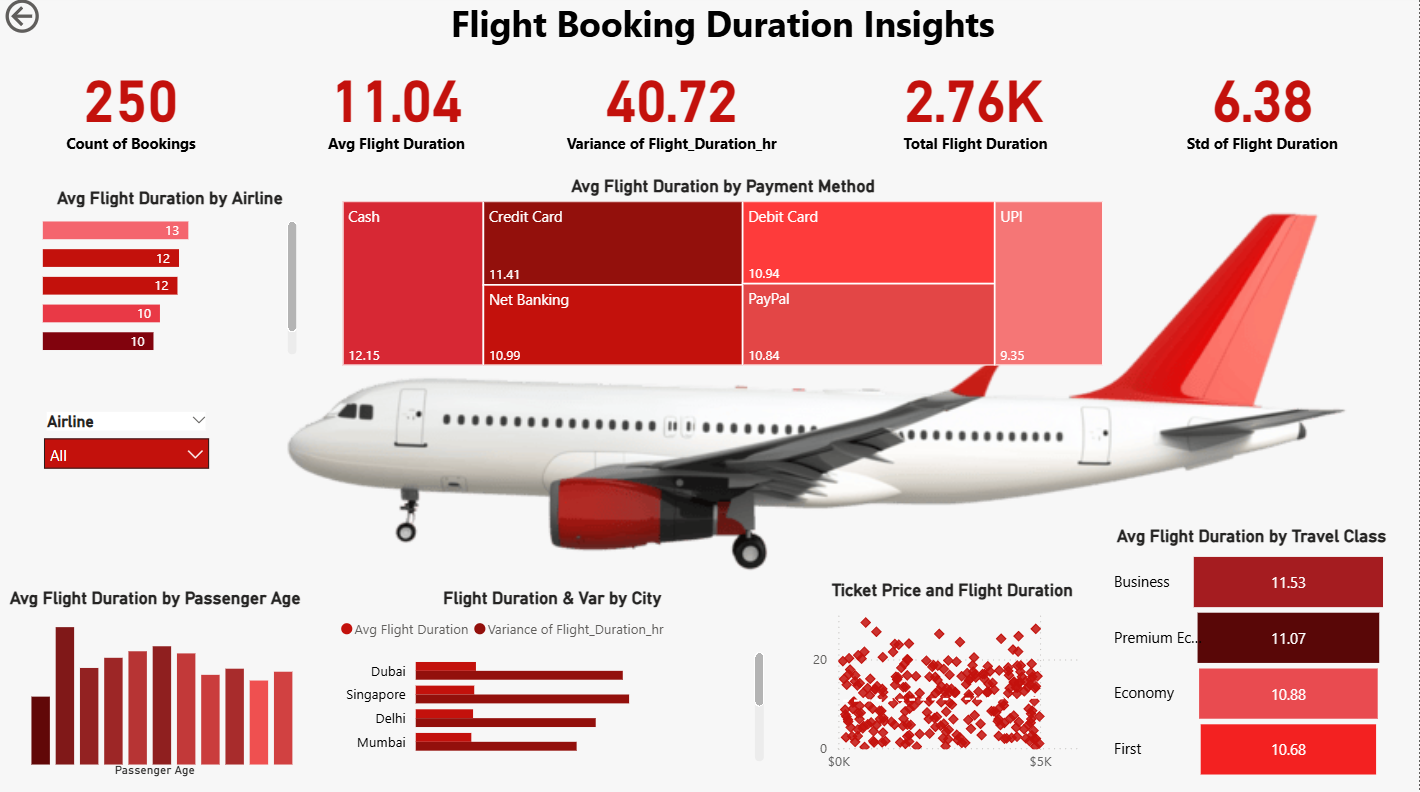

Layout of this report page (visuals, bound fields, positions):
{"tool":"powerbi","page":{"name":"PART 2","canvas":[1280,720],"ordinal":1},"visuals":[{"type":"textbox","box":[32.3,0,1237.7,58.5],"z":0},{"type":"image","box":[194.1,159.2,1086,399.3],"z":1000},{"type":"card","fields":{"Values":["Count(flight_bookings_sample (1).Booking_ID)"]},"box":[29.9,48.5,177.9,102],"z":2000},{"type":"card","fields":{"Values":["Avg(flight_bookings_sample (1).Flight_Duration_hr)"]},"box":[246.3,48.5,221.4,102],"z":3000},{"type":"card","fields":{"Values":["Sum(flight_bookings_sample (1).Flight_Duration_hr)"]},"box":[497.6,48.5,217.7,102],"z":4000},{"type":"card","fields":{"Values":["Sum(flight_bookings_sample (1).Flight_Duration_hr)"]},"box":[788.7,48.5,177.9,102],"z":5000},{"type":"actionButton","box":[0,0,100,40],"z":6000},{"type":"card","fields":{"Values":["Sum(flight_bookings_sample (1).Flight_Duration_hr)"]},"box":[1030,48.5,216.4,102],"z":7000},{"type":"barChart","fields":{"Category":["flight_bookings_sample (1).Airline"],"Y":["flight_bookings_sample (1).Avg Flight Duration"]},"box":[33.6,174.2,238.8,155.5],"z":9000},{"type":"clusteredBarChart","title":"Flight Duration & Var by  City","fields":{"Category":["flight_bookings_sample (1).Departure_City"],"Y":["flight_bookings_sample (1).Avg Flight Duration","Variance(flight_bookings_sample (1).Flight_Duration_hr)"]},"box":[302.3,534.9,391.8,161.7],"z":10000},{"type":"funnel","title":"Avg Flight Duration by Travel Class","fields":{"Category":["flight_bookings_sample (1).Travel_Class"],"Y":["flight_bookings_sample (1).Avg Flight Duration"]},"box":[1000.1,480.2,257.5,233.9],"z":11000},{"type":"treemap","title":"Avg Flight Duration by Payment Method","fields":{"Group":["flight_bookings_sample (1).Payment_Method"],"Values":["flight_bookings_sample (1).Avg Flight Duration"]},"box":[304.8,164.2,695.4,175.4],"z":12000},{"type":"scatterChart","title":"Ticket Price and Flight Duration","fields":{"Y":["flight_bookings_sample (1).Flight_Duration_hr"],"X":["flight_bookings_sample (1).Ticket_Price"]},"box":[727.7,528.7,261.2,181.6],"z":13000},{"type":"columnChart","title":"Avg Flight Duration  by Passenger Age ","fields":{"Category":["flight_bookings_sample (1).Passenger_Age (bins)"],"Y":["flight_bookings_sample (1).Avg Flight Duration"]},"box":[0,534.9,279.9,175.4],"z":14000},{"type":"slicer","fields":{"Values":["flight_bookings_sample (1).Airline"]},"box":[29.9,371.9,169.2,73.4],"z":15000}]}

Visuals, with their boxes in screenshot pixels (x1, y1, x2, y2), scaled from the page's 1280x720 canvas onto the 1420x792 screenshot:
textbox: select_region(36, 0, 1409, 64)
image: select_region(215, 175, 1419, 614)
card - Count(flight_bookings_sample (1).Booking_ID): select_region(33, 53, 231, 166)
card - Avg(flight_bookings_sample (1).Flight_Duration_hr): select_region(273, 53, 519, 166)
card - Sum(flight_bookings_sample (1).Flight_Duration_hr): select_region(552, 53, 794, 166)
card - Sum(flight_bookings_sample (1).Flight_Duration_hr): select_region(875, 53, 1072, 166)
actionButton: select_region(0, 0, 111, 44)
card - Sum(flight_bookings_sample (1).Flight_Duration_hr): select_region(1143, 53, 1383, 166)
barChart - flight_bookings_sample (1).Airline x flight_bookings_sample (1).Avg Flight Duration: select_region(37, 192, 302, 363)
"Flight Duration & Var by  City" clusteredBarChart: select_region(335, 588, 770, 766)
"Avg Flight Duration by Travel Class" funnel: select_region(1109, 528, 1395, 786)
"Avg Flight Duration by Payment Method" treemap: select_region(338, 181, 1110, 374)
"Ticket Price and Flight Duration" scatterChart: select_region(807, 582, 1097, 781)
"Avg Flight Duration  by Passenger Age " columnChart: select_region(0, 588, 311, 781)
slicer - flight_bookings_sample (1).Airline: select_region(33, 409, 221, 490)
